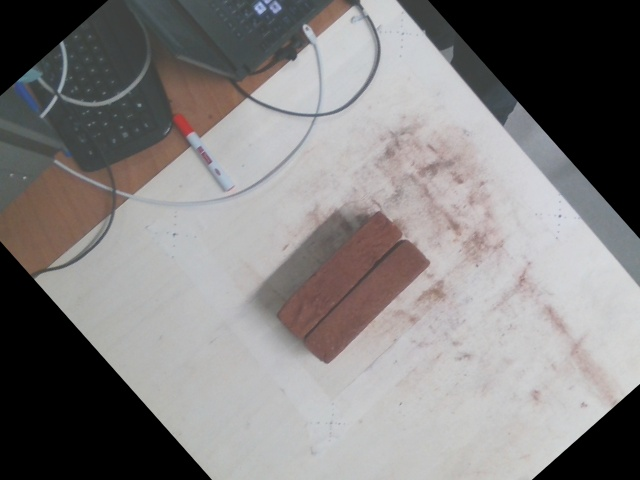brick-side: (303, 238, 430, 365), (276, 211, 403, 338)
